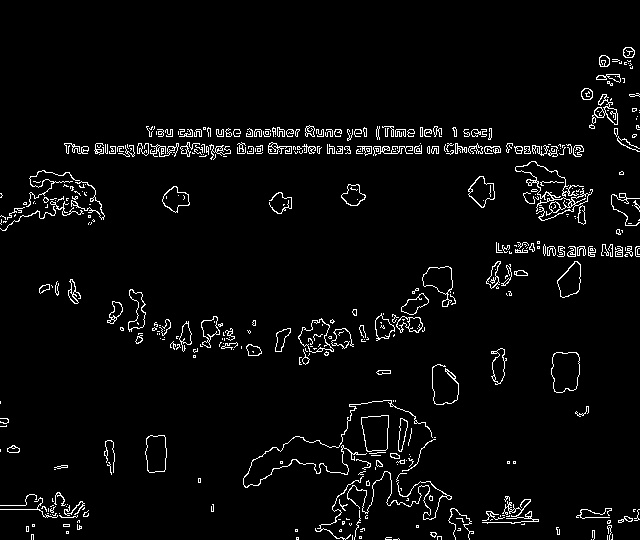down: (337, 178, 373, 218)
left: (455, 168, 502, 213), (154, 182, 196, 220), (261, 188, 301, 223)
